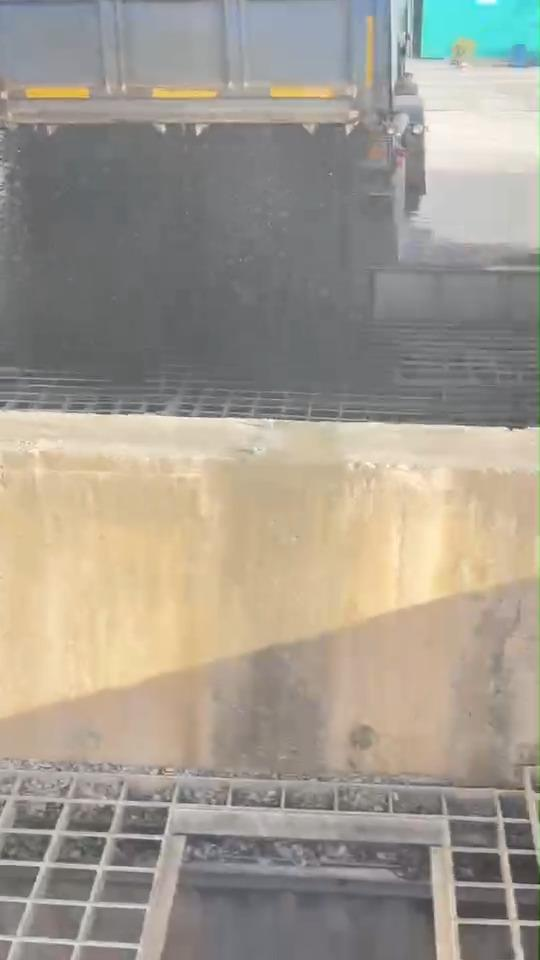gravel: (0, 126, 398, 386)
